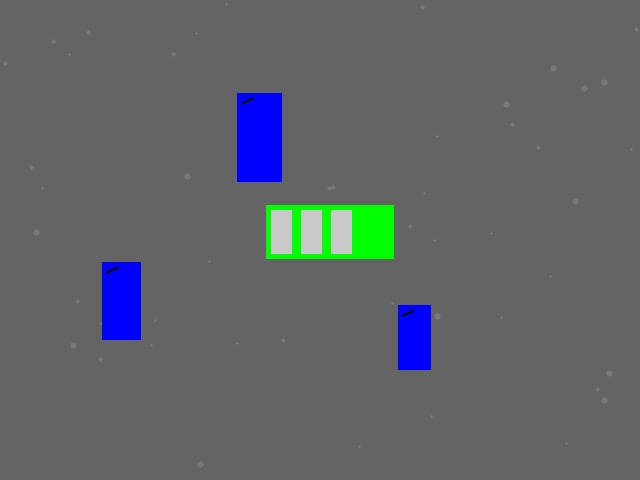bus: (266, 205, 393, 258)
motorcycle: (237, 93, 281, 181), (102, 262, 140, 339), (398, 305, 430, 369)
